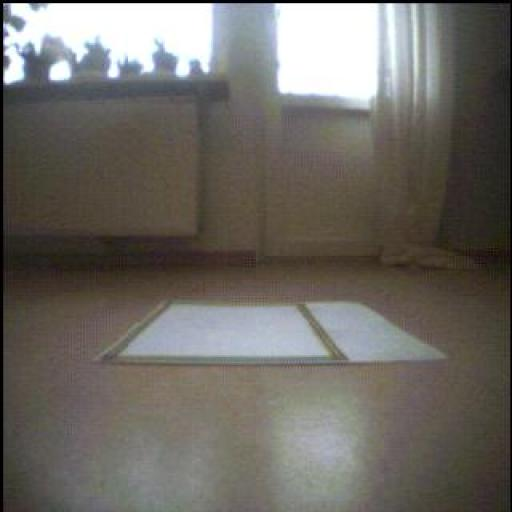Pad: (100, 302, 446, 366)
